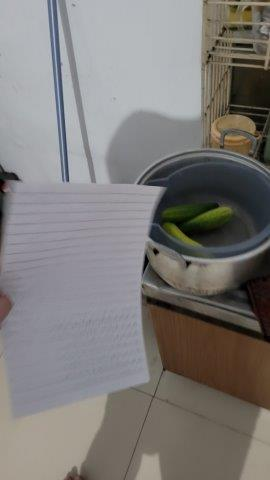kertas: (4, 181, 153, 424)
